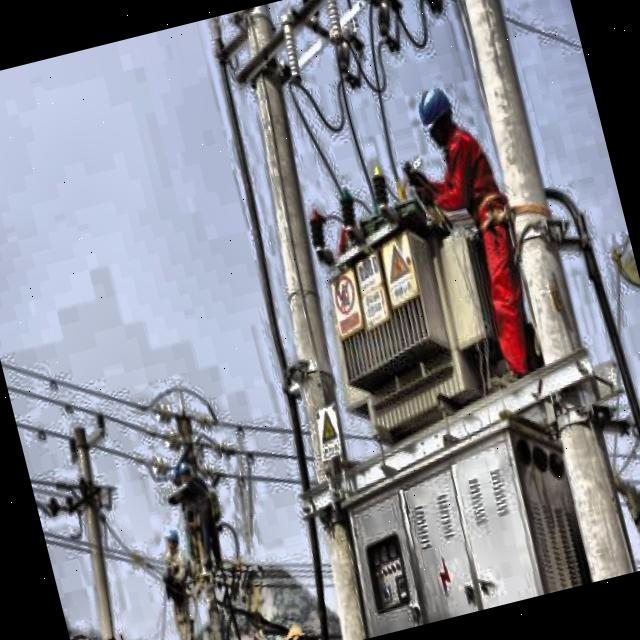helmet: (410, 75, 466, 154), (158, 523, 183, 556), (172, 455, 195, 487)
